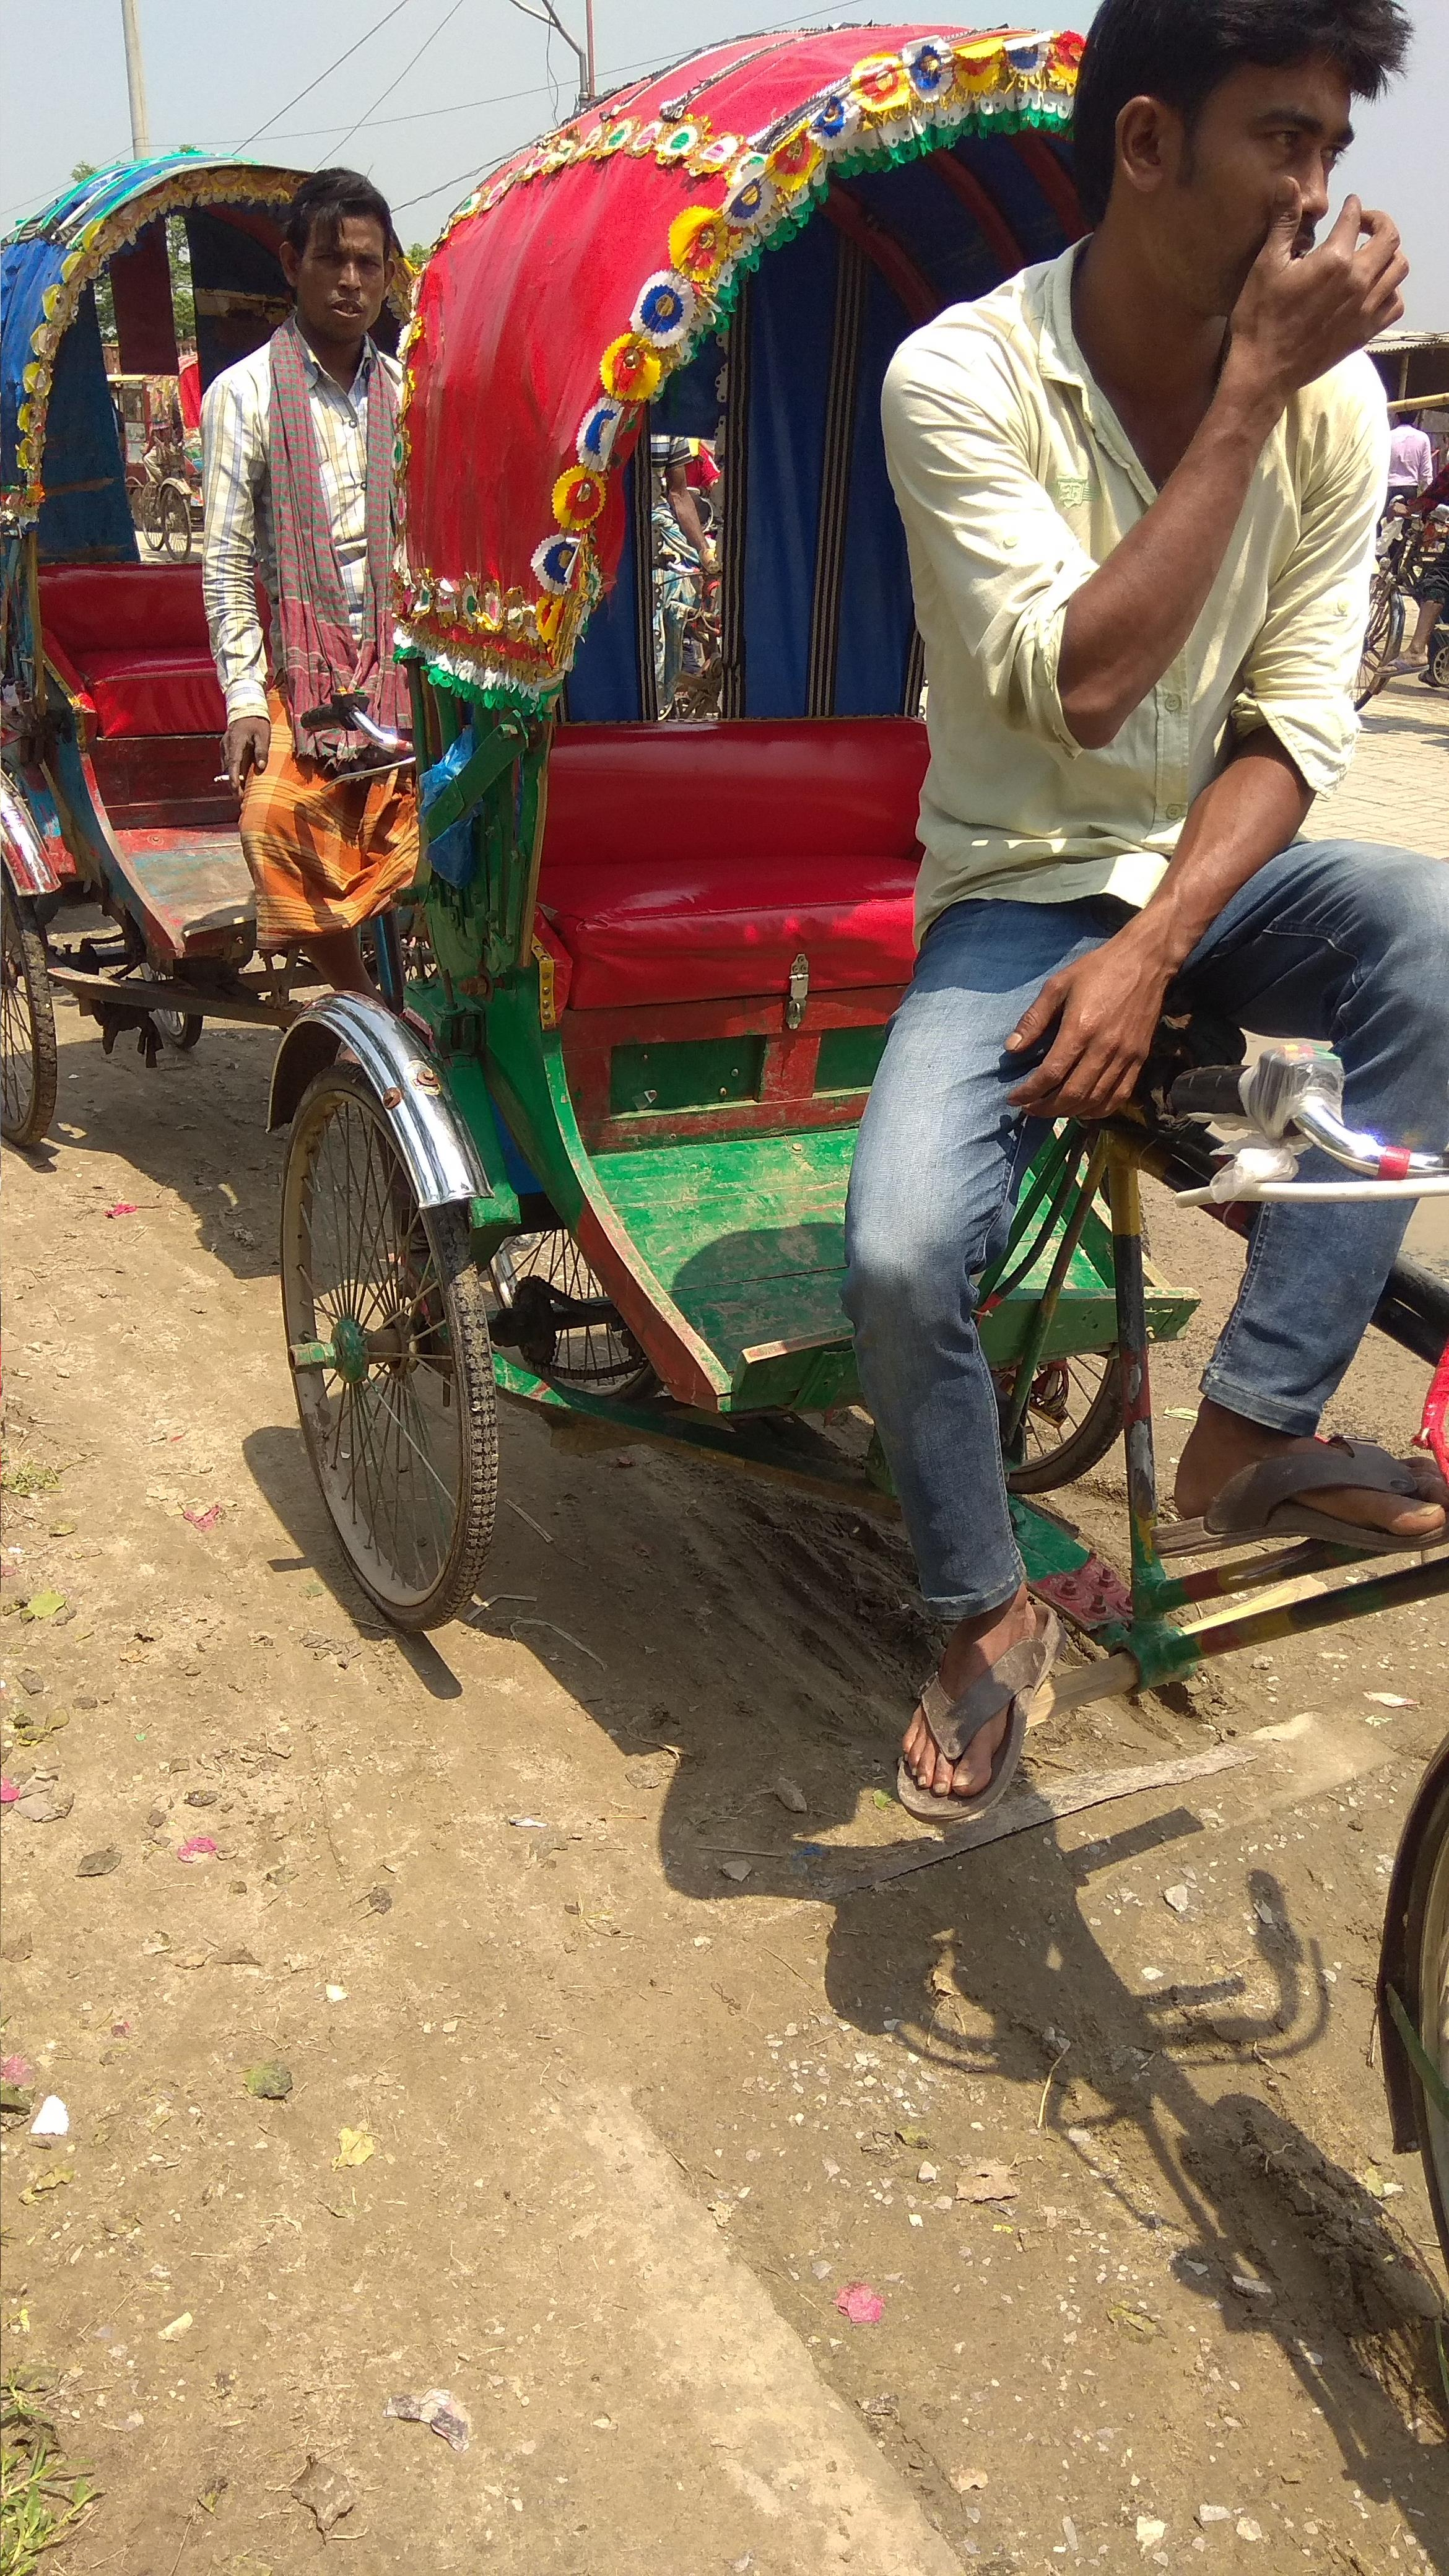Rickshaw: (357, 37, 1440, 1776), (9, 108, 448, 1166)
